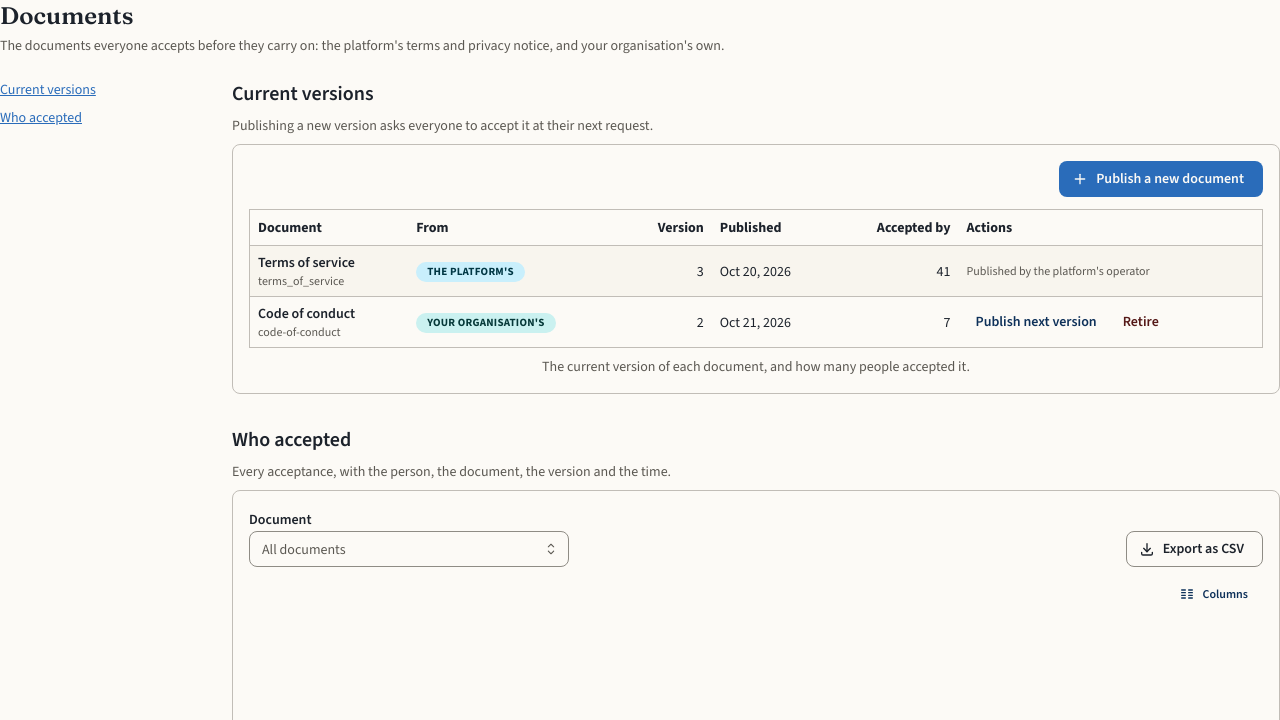
Test case: the console's documents page › publishes the next version of a tenant document, which everyone accepts at their next request [TF-028 AC1, ADR-0049]
The width and height of the screenshot is (1280, 720).
Click the button with aria-label "Publish the next version of Code of conduct".
click(1036, 322)  # box [966, 309, 1106, 335]
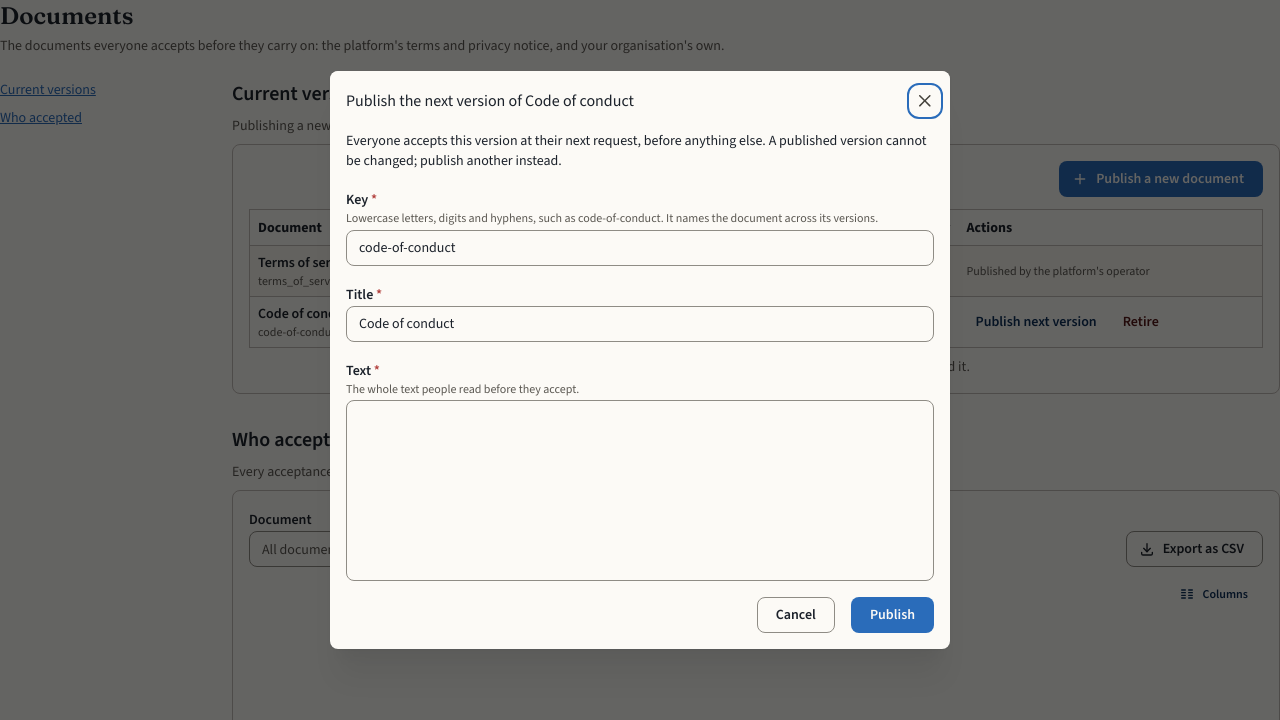
Check: the field labelled "Key *" holds "code-of-conduct", box [346, 230, 934, 266]
Click the text box labelled "Text *".
click(640, 490)  # box [346, 400, 934, 581]
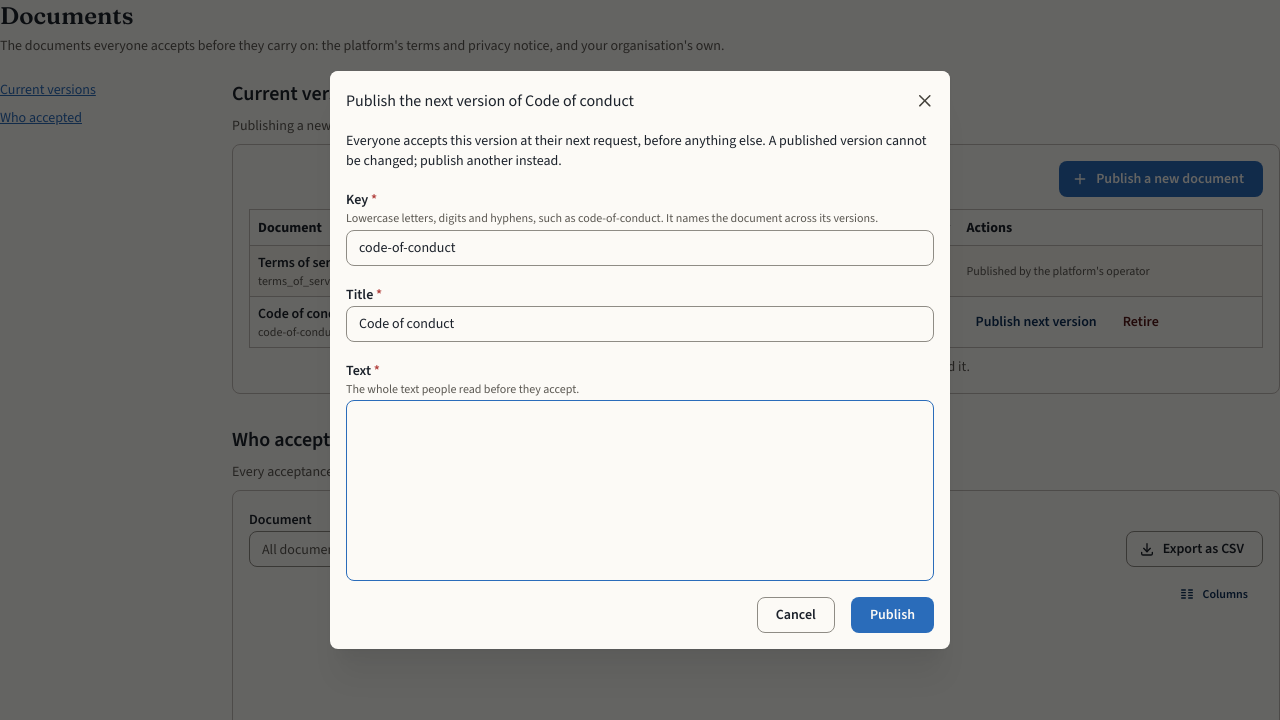
Type keys "Be kinder."
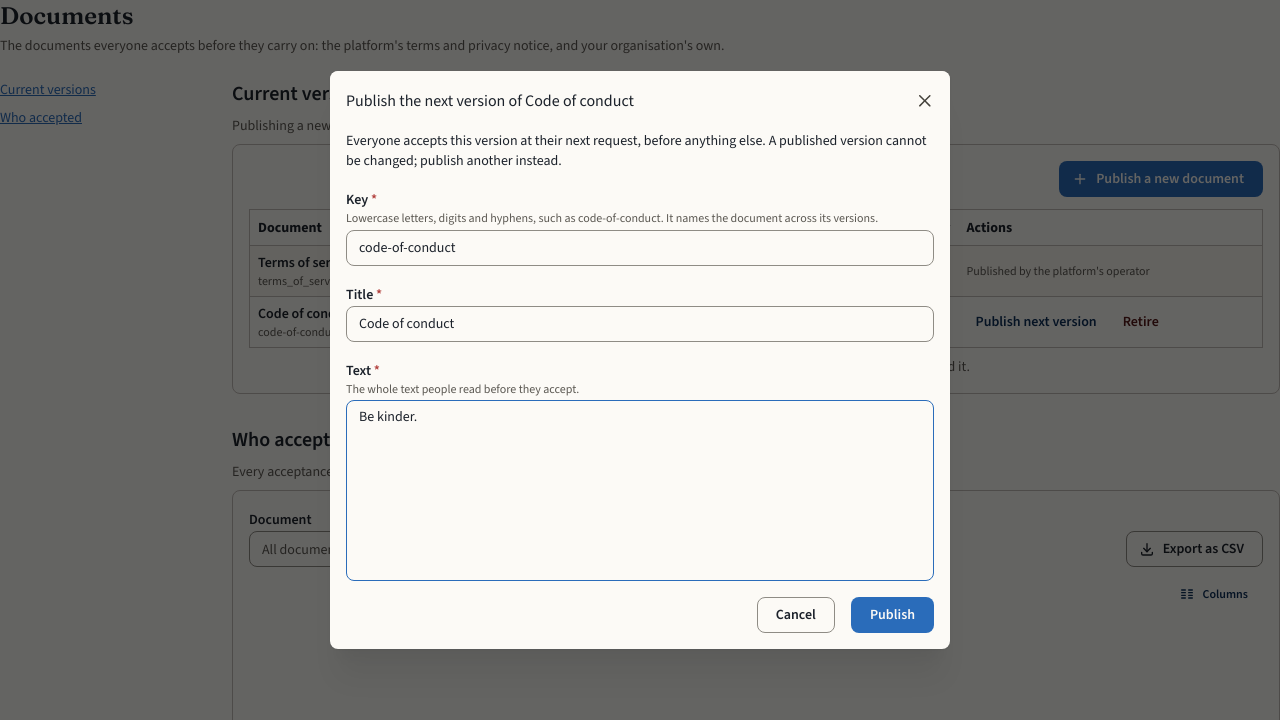
Click the button "Publish".
click(892, 615)  # box [851, 597, 934, 633]
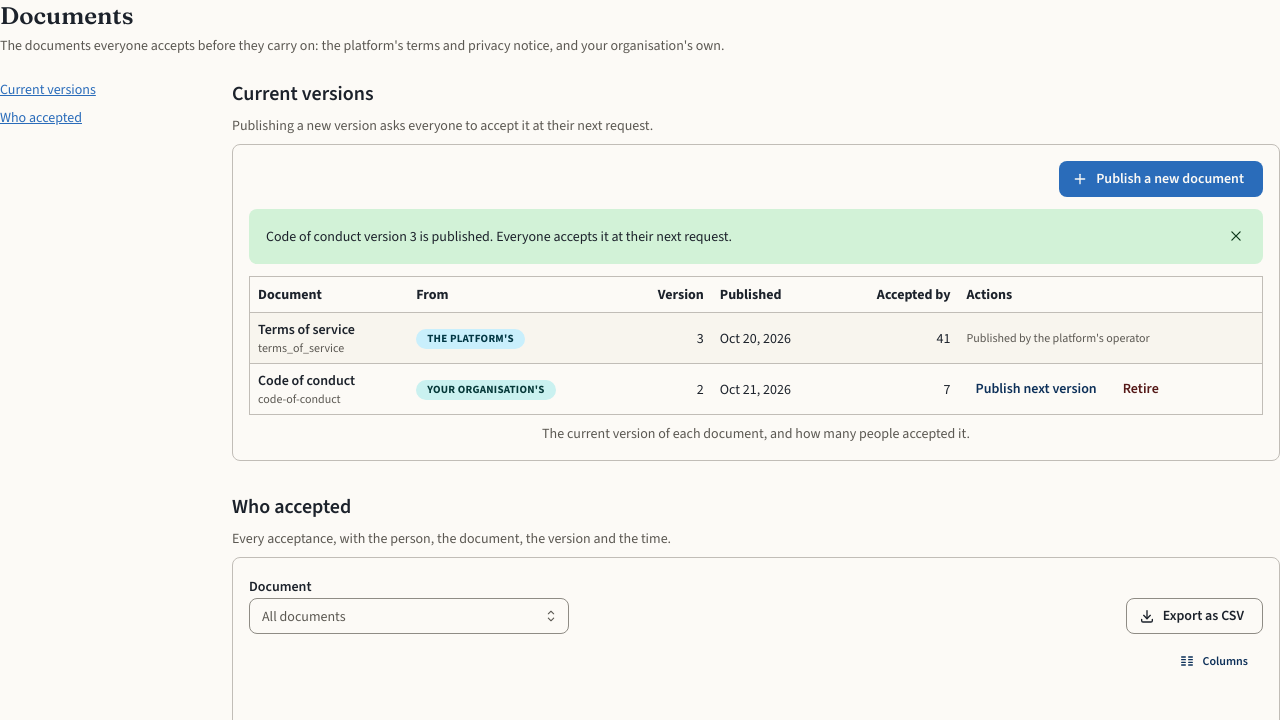
Check: the text "Code of conduct version 3 is published. Everyone accepts it at their next request." is shown, box [266, 227, 732, 246]
